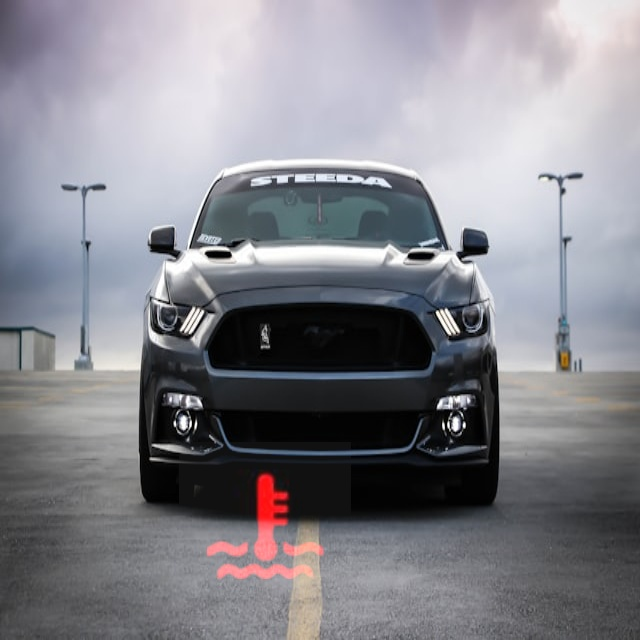symbol: (179, 442, 351, 614)
